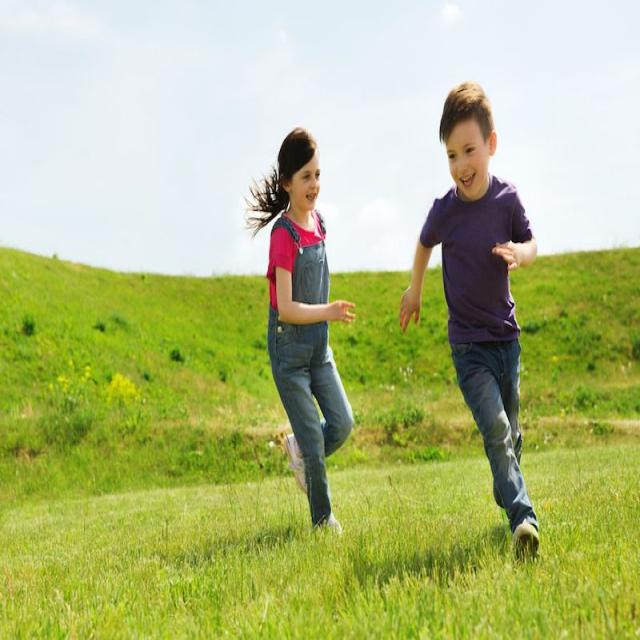Person: (400, 80, 540, 560), (245, 126, 352, 536)
